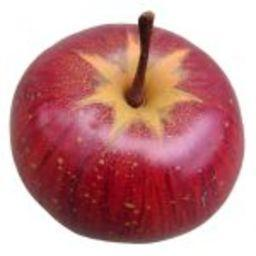apple: (8, 13, 244, 243)
